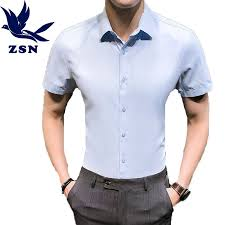F_shirt: (43, 6, 208, 181)
